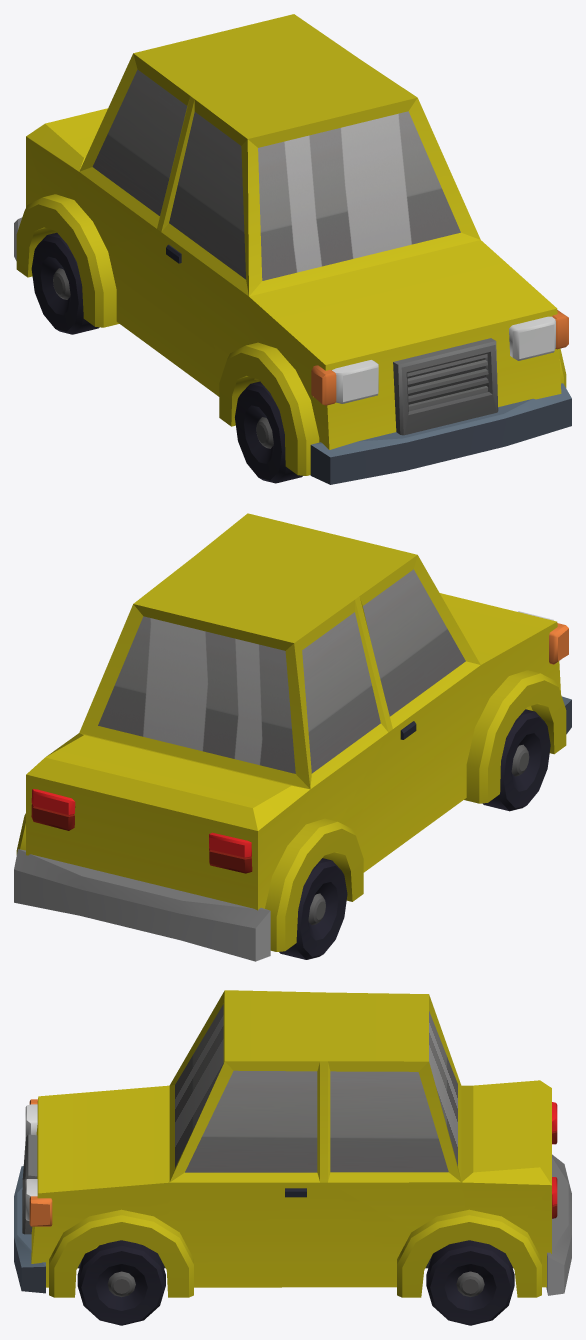
File: Car_2_20.glb
3 renders of one model, top to bottom at view 1: azimuth 30°, elevation 25°; view 2: azimuth 150°, elevation 25°; view 3: azimuth 270°, elevation 25°, orthographic. The views are drawn at different scales.
Parts seen in each view (by area): view 1: Car_2_20, W_BR, W_FR; view 2: Car_2_20, W_FR, W_BR; view 3: Car_2_20, W_BL, W_FL.
Boxes of the visible parts, box(x1,y1,x2,y2) form: Car_2_20: box(14, 14, 571, 484); W_BR: box(31, 232, 99, 334); W_FR: box(235, 381, 302, 483); Car_2_20: box(14, 513, 571, 961); W_FR: box(482, 709, 550, 811); W_BR: box(279, 858, 347, 959); Car_2_20: box(14, 990, 571, 1297); W_BL: box(426, 1240, 514, 1325); W_FL: box(77, 1240, 165, 1325).
Bounding box in the file's own units: 1.09 × 1.11 × 2.28.
Materials: 5 (5 with a texture image).
